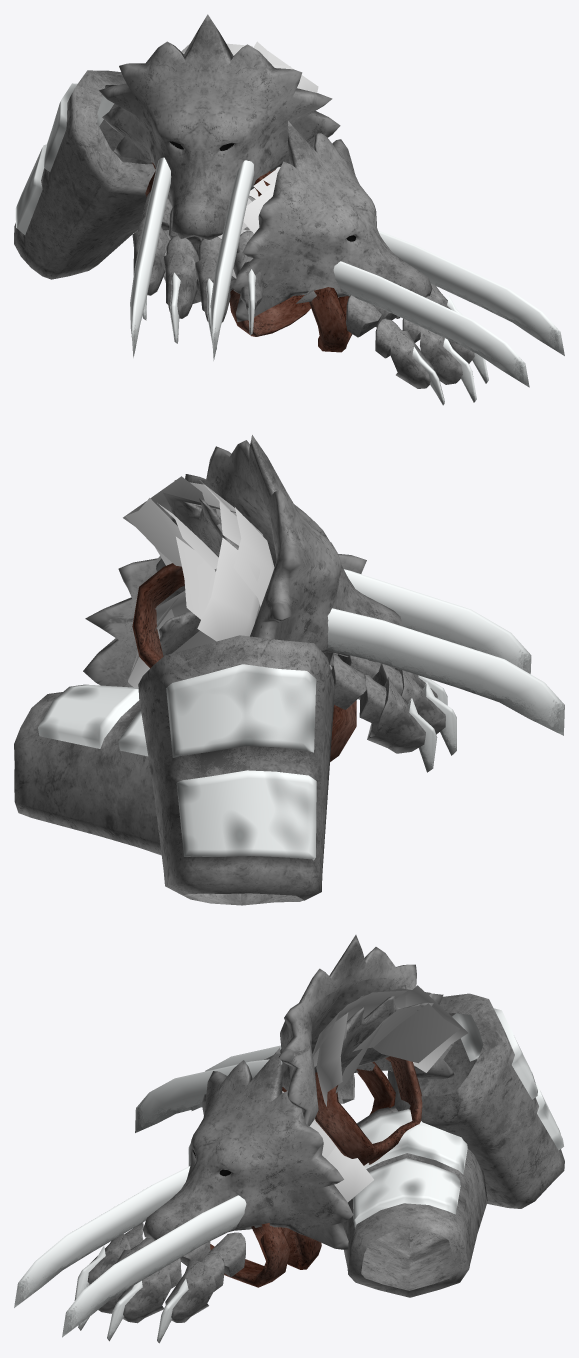
File: SilverFistMesh.fbx
3 views of the same model, one above another, from view 1: azimuth 30°, elevation 25°; view 2: azimuth 150°, elevation 25°; view 3: azimuth 270°, elevation 25° (orthographic). The views are drawn at different scales.
Visible parts, largest first — view 1: SilverGlovesMesh; view 2: SilverGlovesMesh; view 3: SilverGlovesMesh.
Boxes of the visible parts, bbox=[...] form: SilverGlovesMesh: bbox=[14, 14, 564, 405]; SilverGlovesMesh: bbox=[14, 435, 564, 905]; SilverGlovesMesh: bbox=[14, 935, 564, 1343].
Size of the model in its own units: 46.62 by 38.92 by 58.74.
